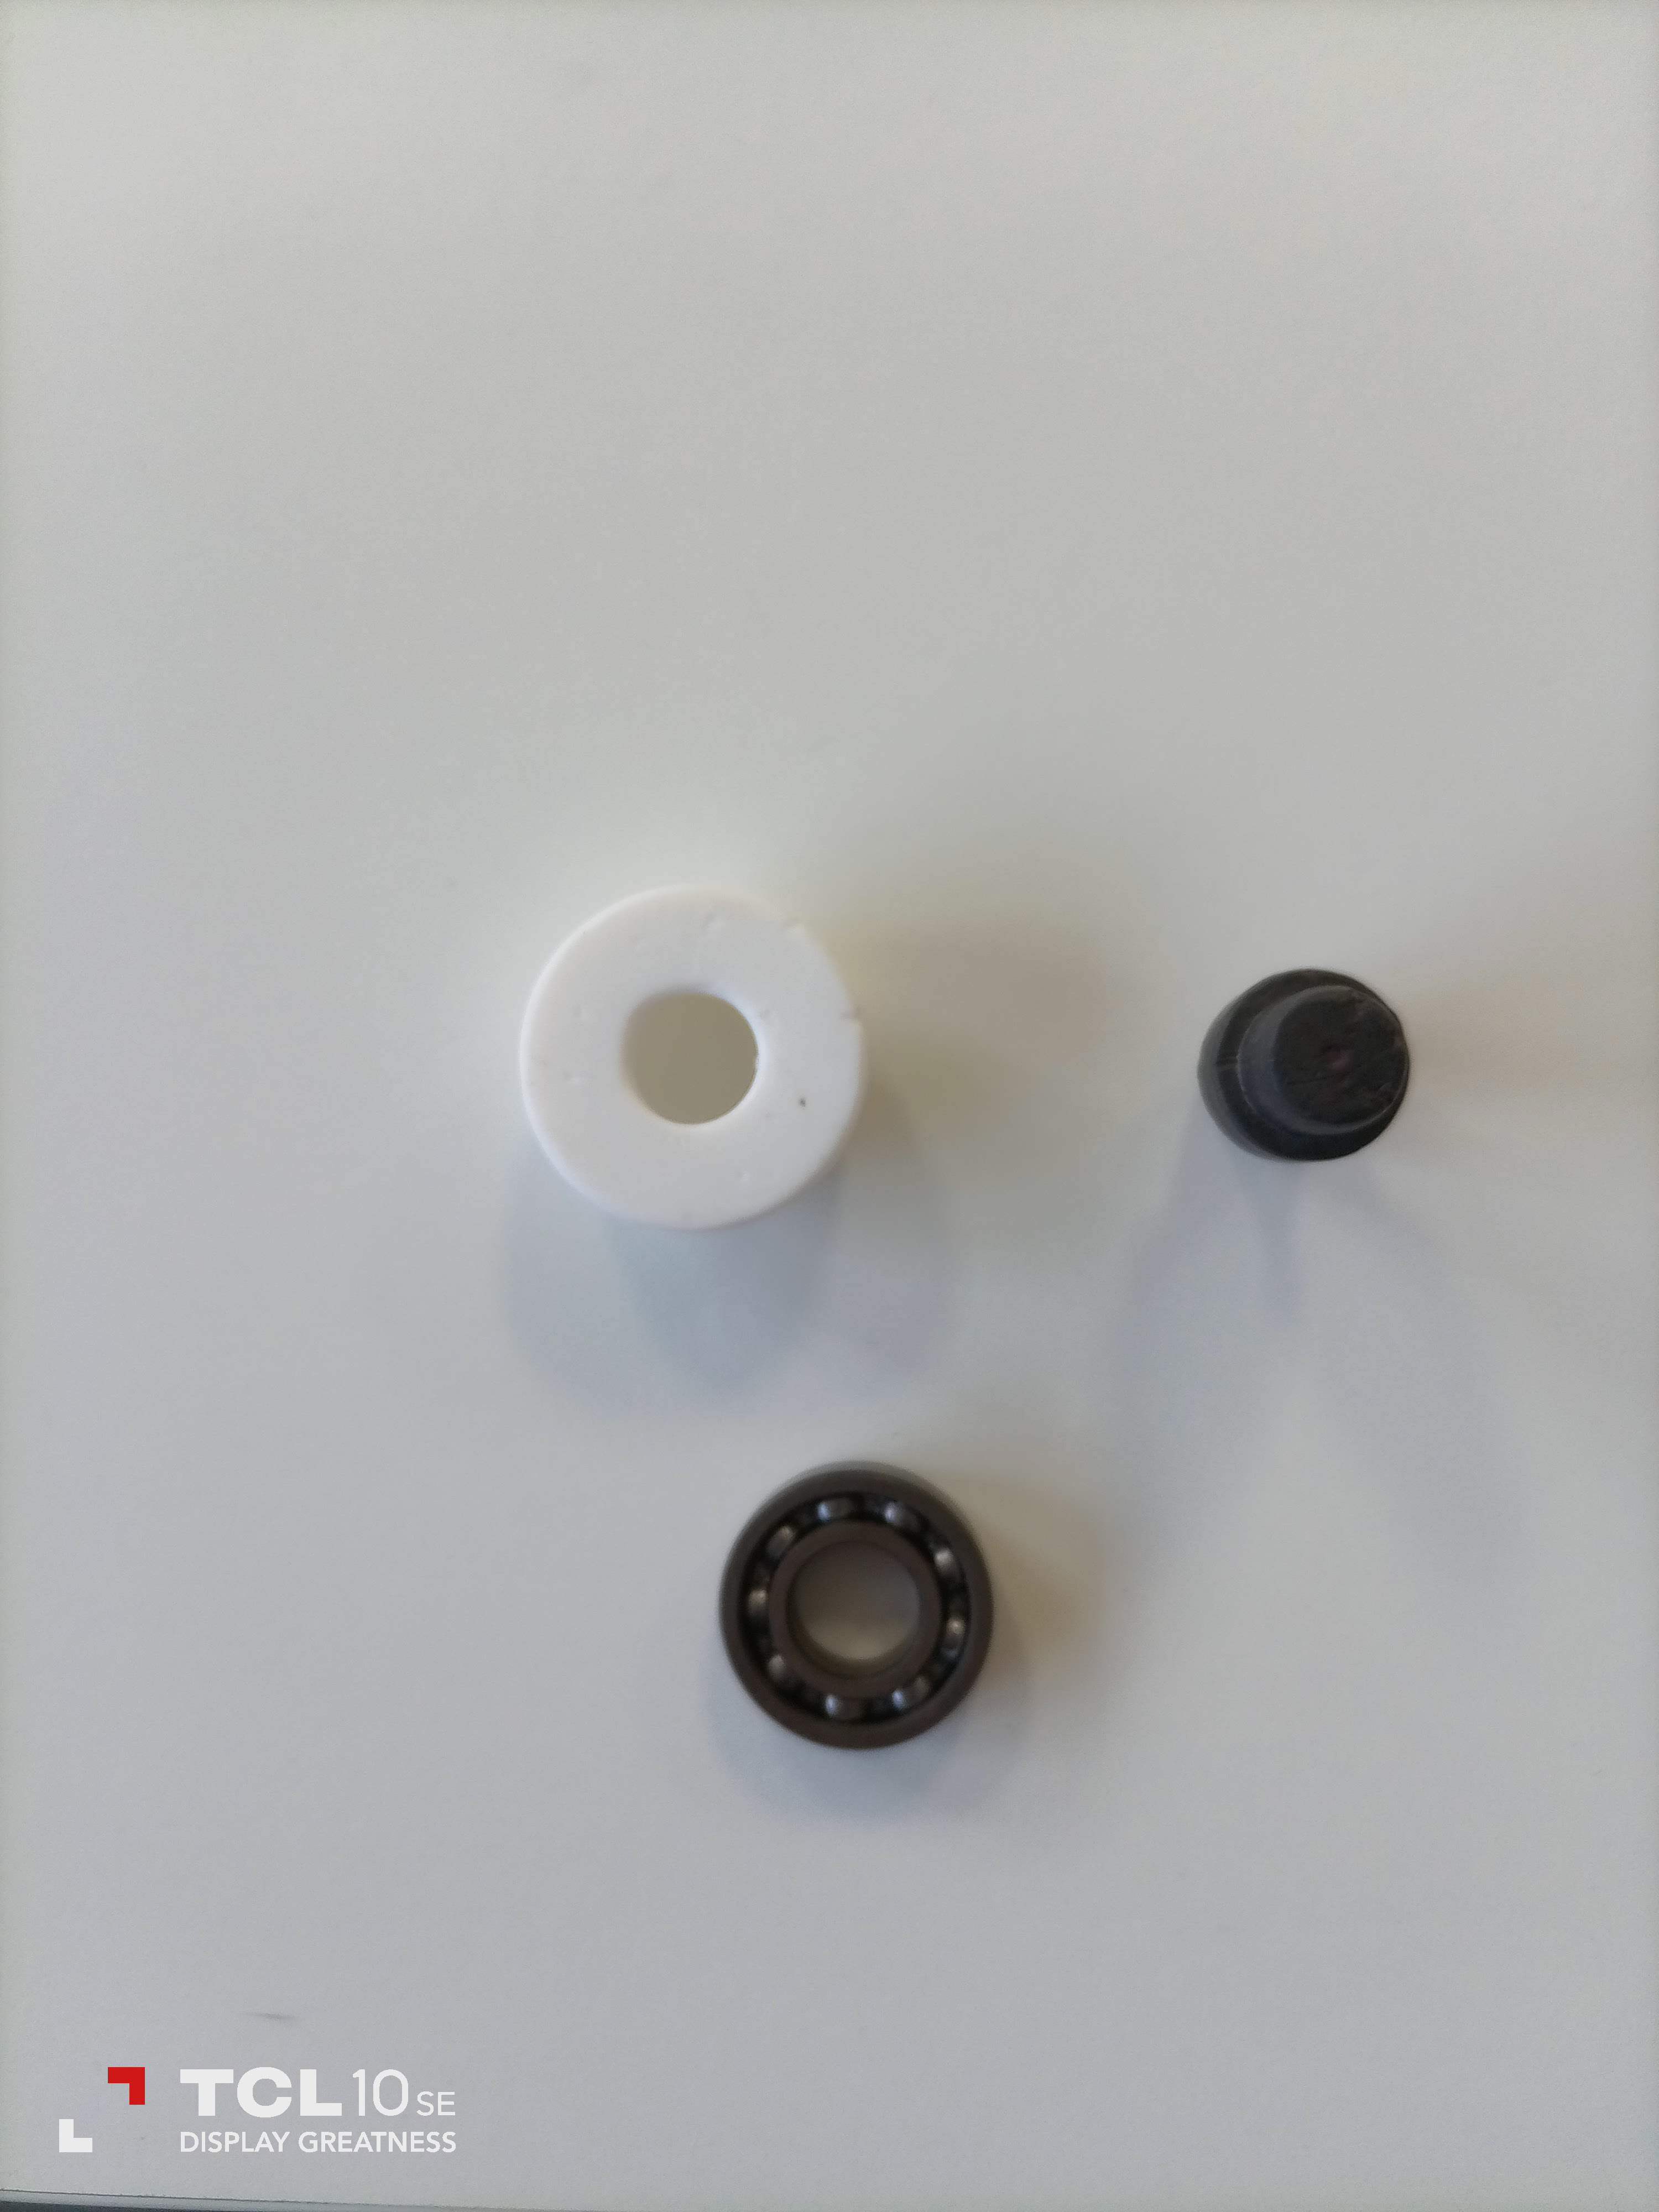Ardatza: (1183, 958, 1431, 1172)
Roda: (678, 1456, 1014, 1766)
Tapa: (523, 888, 870, 1238)
